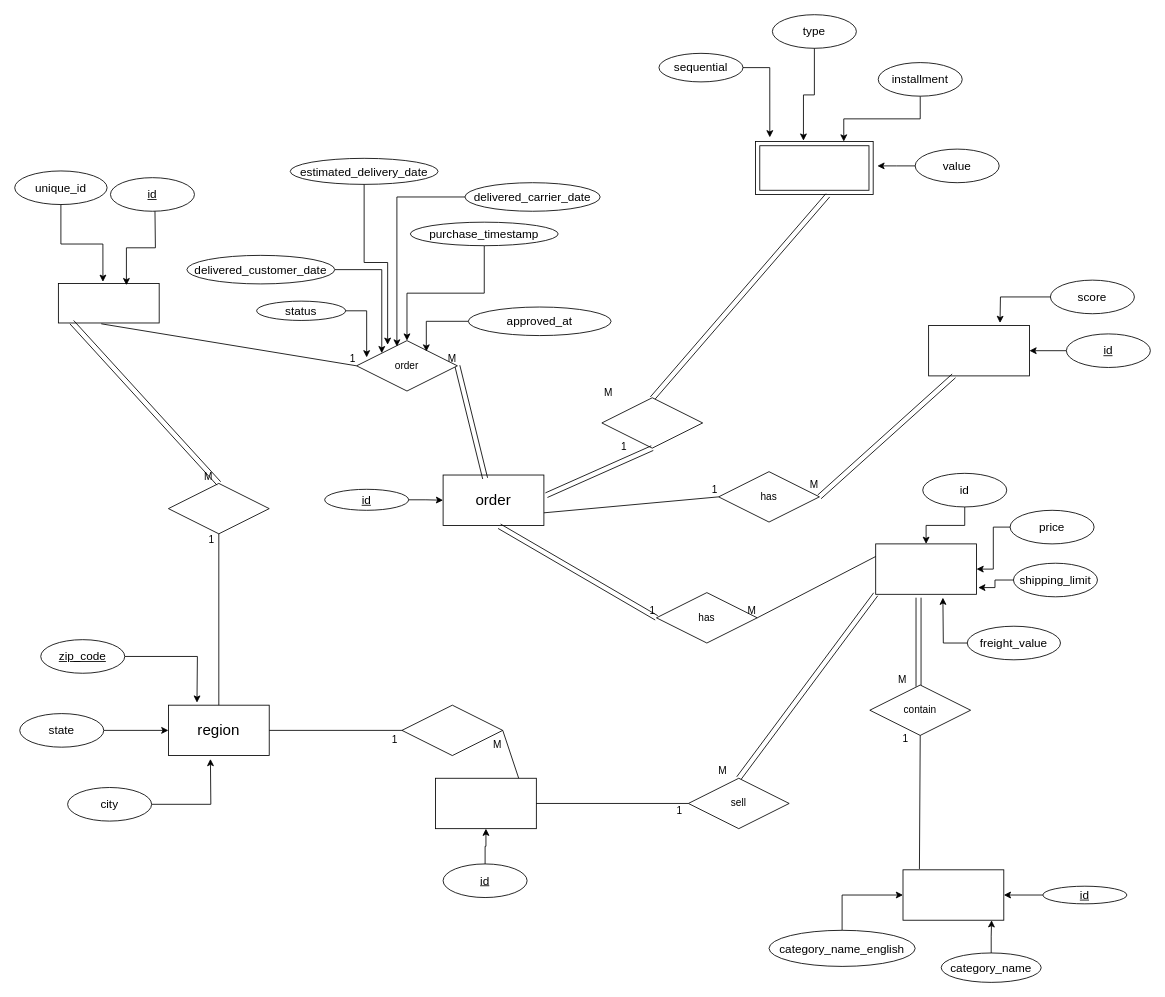
Some shapes in this 1165 by 997 pixel diagram are drawn without their labels. The shapes that lost their labels are listed below. From the top down, each one's centre as x and y in pixels, then its label:
the point at 814,167: payment
the point at 108,303: customer
the point at 978,350: review
the point at 652,422: belong to
the point at 218,508: lives in
the point at 925,568: item
the point at 452,730: sells in
the point at 485,803: seller
the point at 953,894: product
